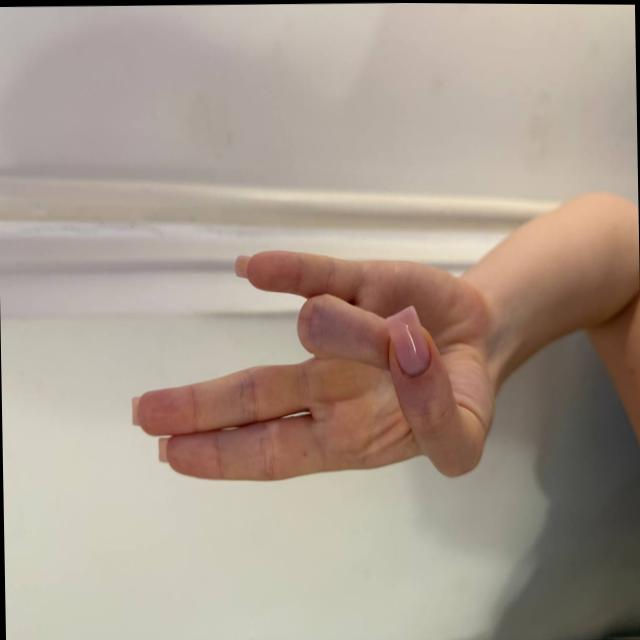n: (128, 229, 476, 515)
